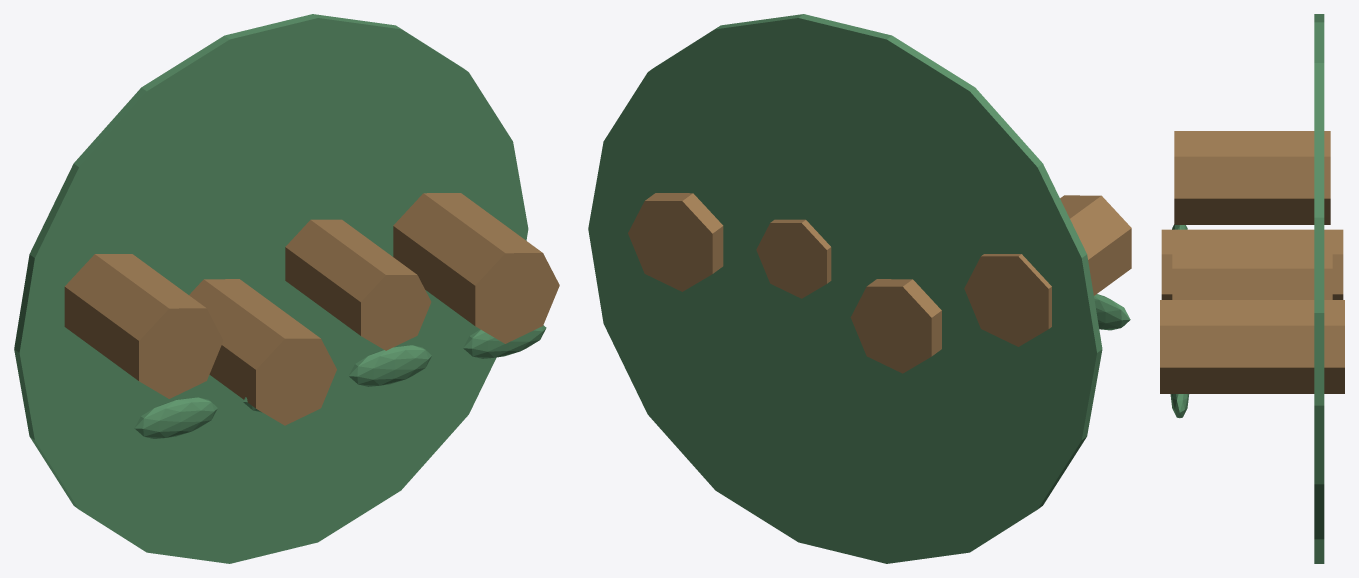
Rendered from 02_local_prop_cluster.glb.
3 views of the same model, side by side, from view 1: azimuth 30°, elevation 25°; view 2: azimuth 150°, elevation 25°; view 3: azimuth 270°, elevation 25° (orthographic). The views are drawn at different scales.
Parts seen in each view (by area): view 1: scatter_base, root_stump_3, root_stump_0, root_stump_1, root_stump_2, moss_0, moss_2, moss_3; view 2: scatter_base, root_stump_0, root_stump_3, root_stump_1, root_stump_2, moss_0; view 3: root_stump_3, root_stump_0, root_stump_2, scatter_base, root_stump_1, moss_3.
Part boxes in pixels (bbox=[...]): scatter_base: bbox=[14, 14, 528, 563]; root_stump_3: bbox=[393, 193, 559, 343]; root_stump_0: bbox=[64, 254, 223, 398]; root_stump_1: bbox=[189, 279, 336, 425]; root_stump_2: bbox=[285, 219, 431, 350]; moss_0: bbox=[134, 397, 217, 438]; moss_2: bbox=[349, 345, 431, 386]; moss_3: bbox=[463, 325, 546, 358]; scatter_base: bbox=[588, 14, 1102, 563]; root_stump_0: bbox=[964, 195, 1131, 346]; root_stump_3: bbox=[628, 193, 723, 291]; root_stump_1: bbox=[850, 279, 941, 373]; root_stump_2: bbox=[756, 219, 831, 298]; moss_0: bbox=[1094, 294, 1130, 330]; root_stump_3: bbox=[1160, 300, 1344, 393]; root_stump_0: bbox=[1174, 131, 1330, 224]; root_stump_2: bbox=[1172, 247, 1332, 299]; scatter_base: bbox=[1314, 14, 1324, 563]; root_stump_1: bbox=[1161, 229, 1343, 299]; moss_3: bbox=[1170, 394, 1189, 418].
Bounding box in the file's own units: 1.9 × 1.87 × 0.6356.
